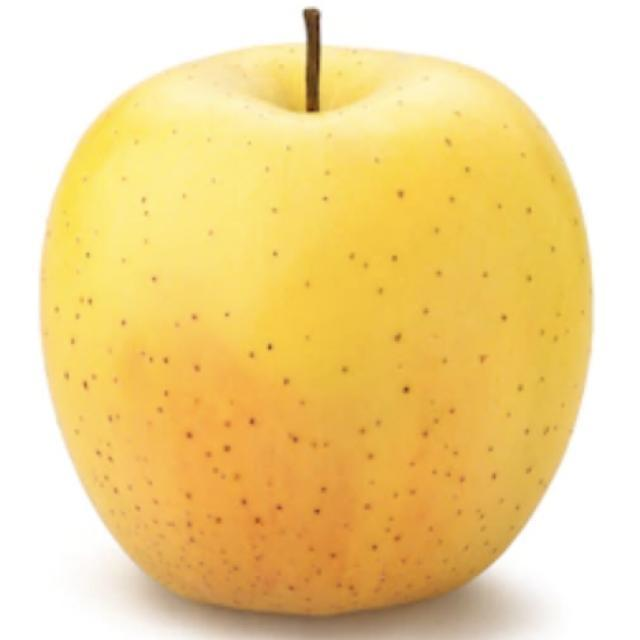Fresh Apple: (66, 55, 592, 595)
